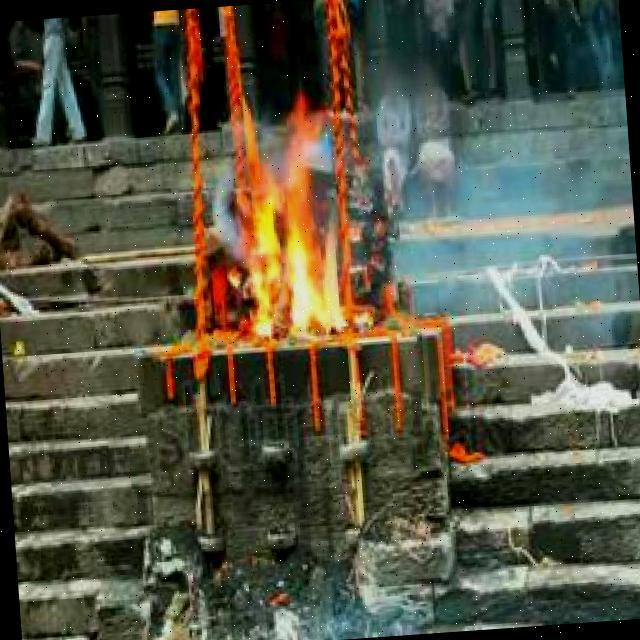Fire: (232, 119, 355, 346)
